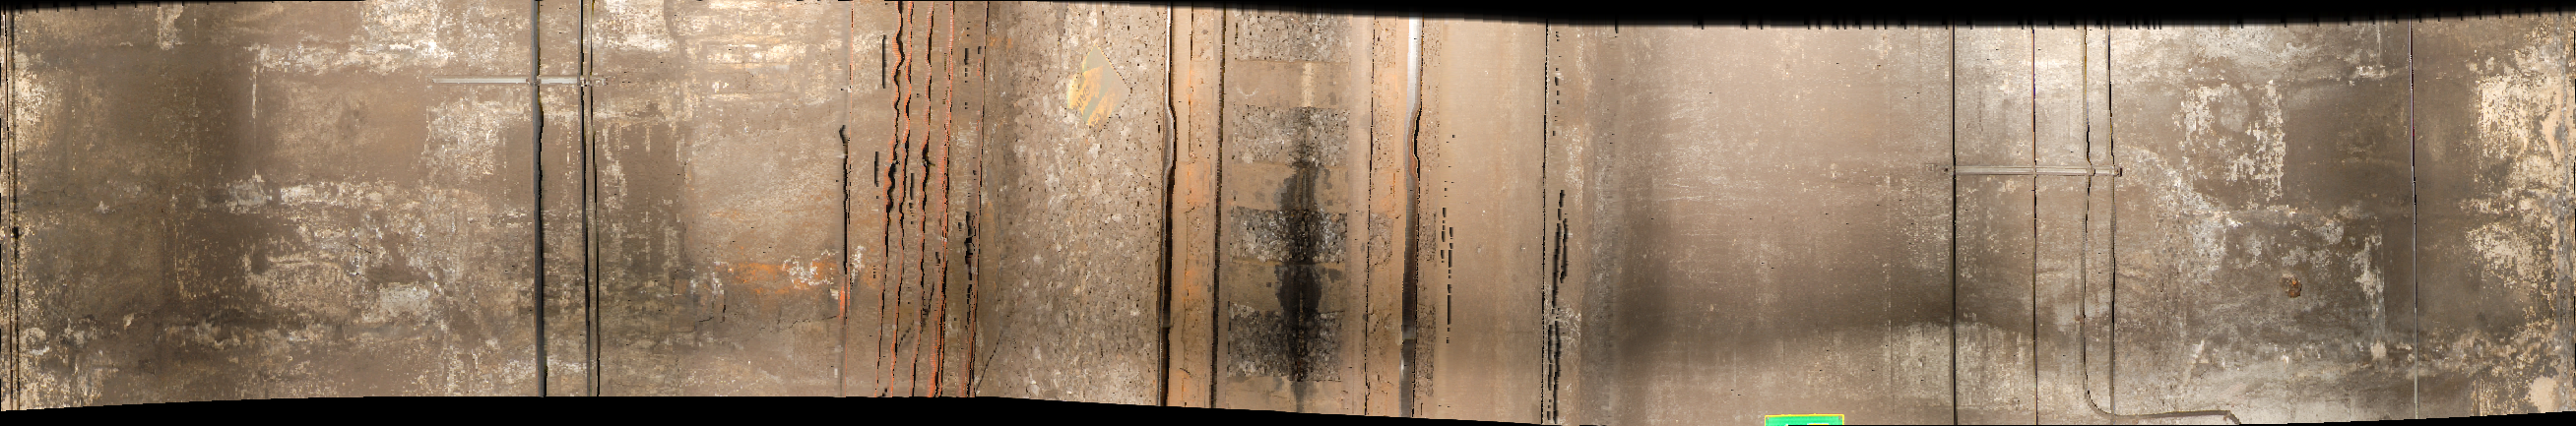pipes: (839, 10, 999, 423), (526, 7, 603, 426), (2077, 25, 2124, 426), (1943, 31, 1973, 426), (2026, 25, 2049, 426)
sign: (1764, 415, 1830, 426)
tracks: (1166, 7, 1442, 426)
